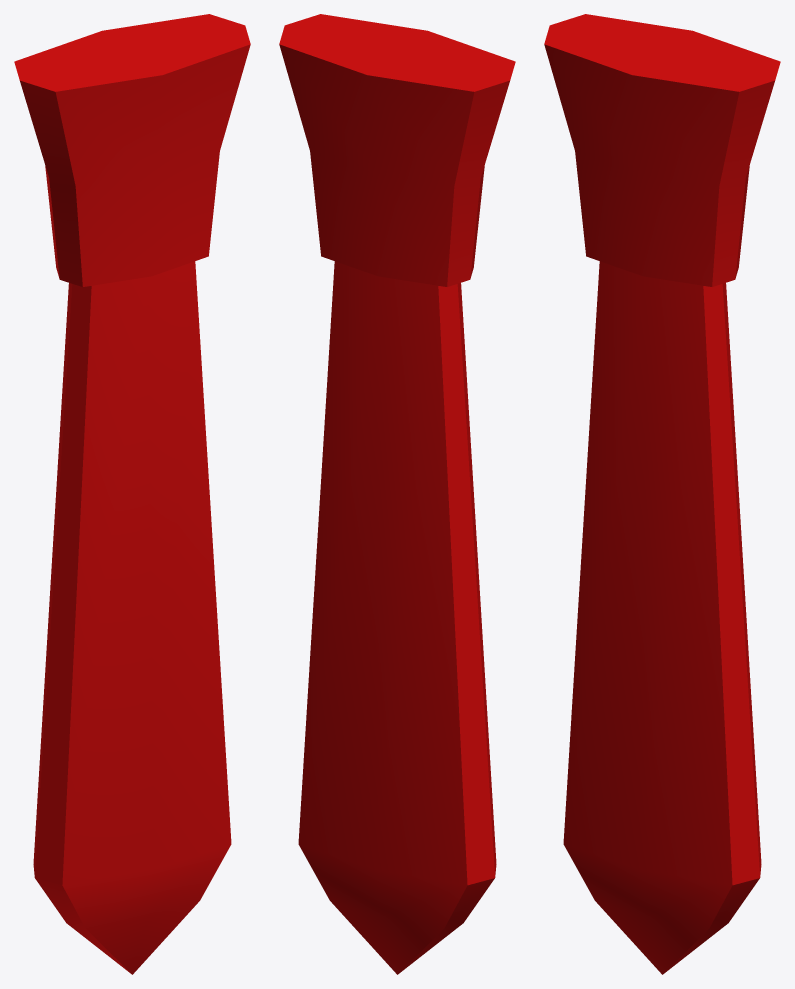
Rendered from tie.fbx.
3 views of the same model, side by side, from view 1: azimuth 30°, elevation 25°; view 2: azimuth 150°, elevation 25°; view 3: azimuth 330°, elevation 25° (orthographic).
Visible parts, largest first — view 1: tie; view 2: tie; view 3: tie.
Part boxes in pixels (left/top/right/bottom): tie: left=14, top=14, right=250, bottom=974; tie: left=279, top=14, right=515, bottom=974; tie: left=544, top=14, right=780, bottom=974.
Size of the model in its own units: 23.89 by 93.31 by 11.11.
